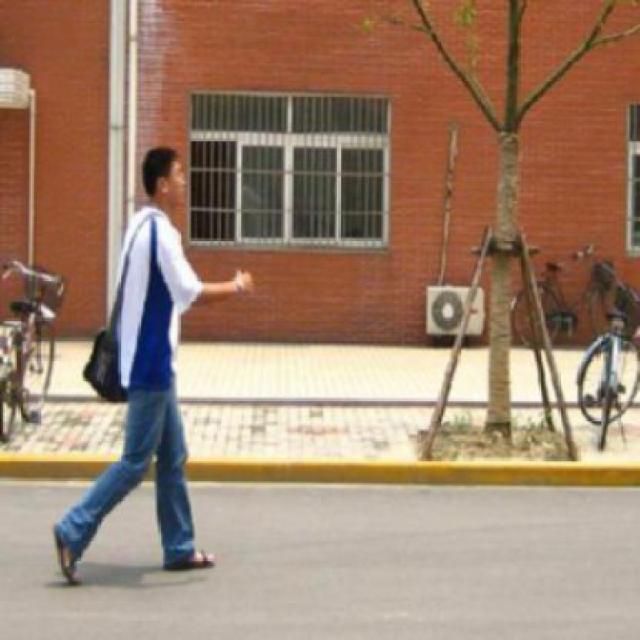Person: (49, 143, 245, 588)
